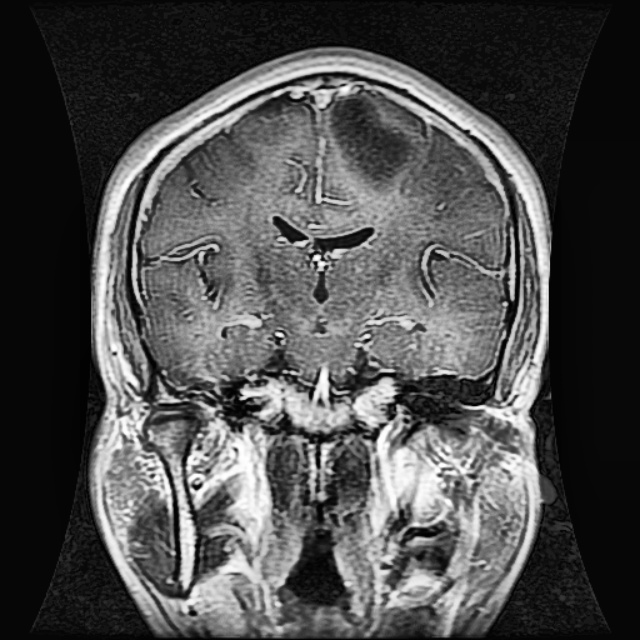Meningioma: (324, 87, 410, 197)
